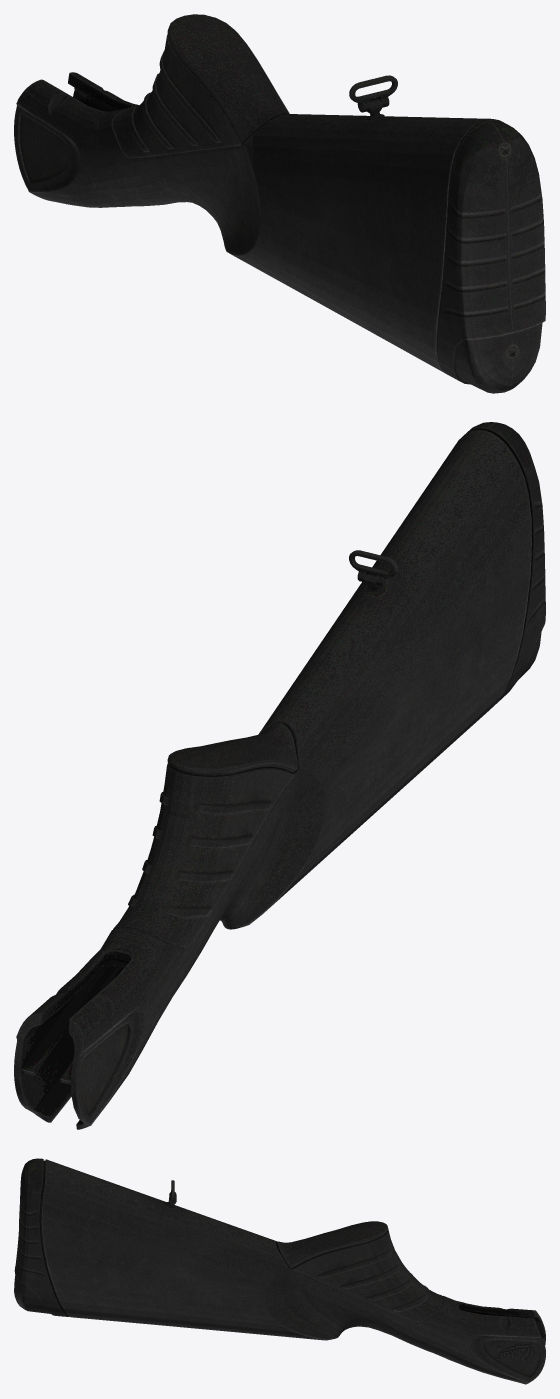
3 views of the same model, one above another, from view 1: azimuth 30°, elevation 25°; view 2: azimuth 150°, elevation 25°; view 3: azimuth 270°, elevation 25° (orthographic). The views are drawn at different scales.
Parts seen in each view (by area): view 1: TW_61f803b8ced75b2e852e35f8_PZ_Import; view 2: TW_61f803b8ced75b2e852e35f8_PZ_Import; view 3: TW_61f803b8ced75b2e852e35f8_PZ_Import.
Boxes of the visible parts, <box> form: TW_61f803b8ced75b2e852e35f8_PZ_Import: <box>14,14,545,393</box>; TW_61f803b8ced75b2e852e35f8_PZ_Import: <box>14,422,545,1129</box>; TW_61f803b8ced75b2e852e35f8_PZ_Import: <box>14,1158,545,1384</box>.
Bounding box in the file's own units: 0.0241 × 0.2221 × 0.1016.
Materials: 1 (1 with a texture image).
